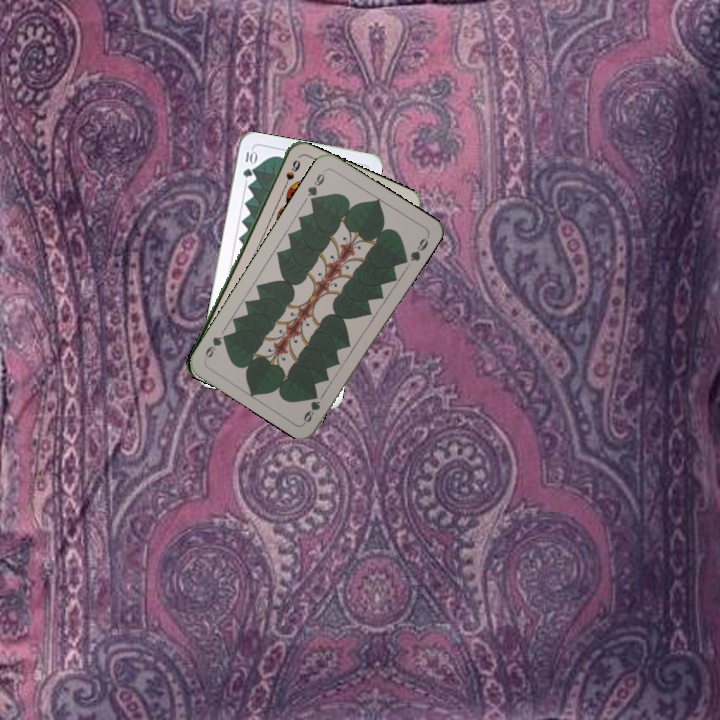G10: (239, 147, 258, 180)
G9: (303, 166, 328, 206), (299, 397, 323, 425)
S9: (279, 156, 302, 193)
